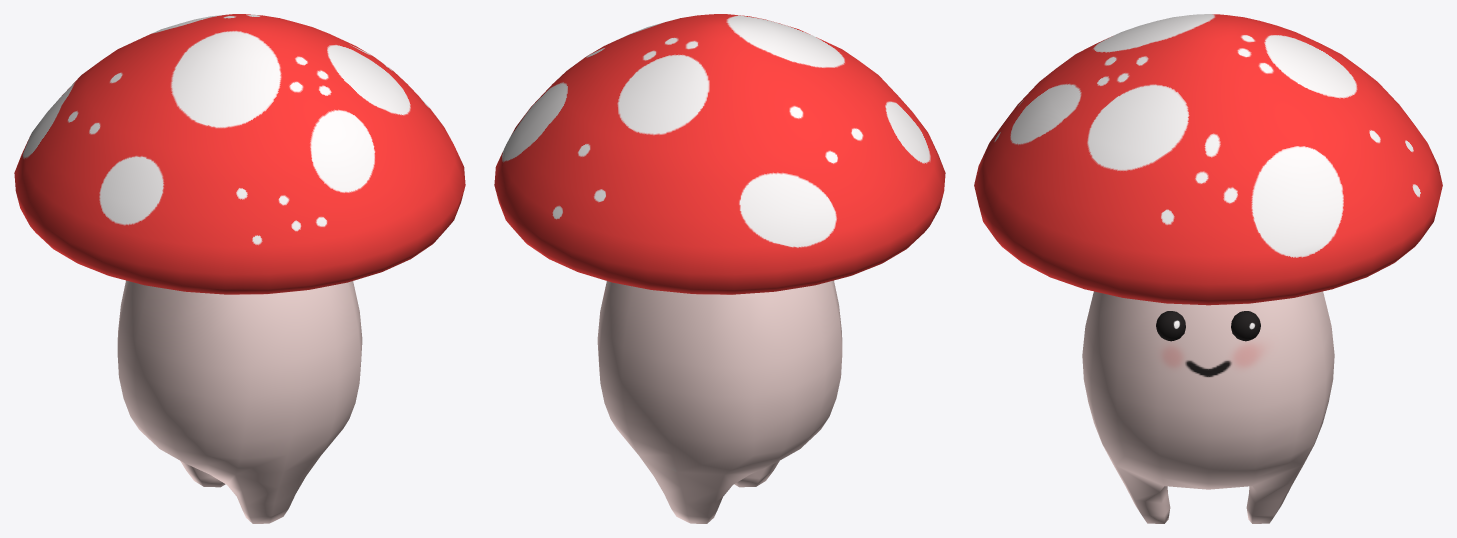
Rendered from MushroomDemo.fbx.
3 renders of one model, left to right at view 1: azimuth 30°, elevation 25°; view 2: azimuth 150°, elevation 25°; view 3: azimuth 270°, elevation 25°, orthographic. The views are drawn at different scales.
Parts seen in each view (by area): view 1: Hat, Body; view 2: Hat, Body; view 3: Hat, Body, Eye_R, Eye_L.
Boxes of the visible parts, x1,y1,x2,y2 form: Hat: (14, 14, 465, 294); Body: (117, 280, 362, 523); Hat: (494, 14, 945, 294); Body: (597, 280, 842, 523); Hat: (974, 14, 1442, 305); Body: (1082, 291, 1334, 523); Eye_R: (1156, 311, 1185, 341); Eye_L: (1231, 311, 1260, 341).
Size of the model in its own units: 248 by 287 by 248.
